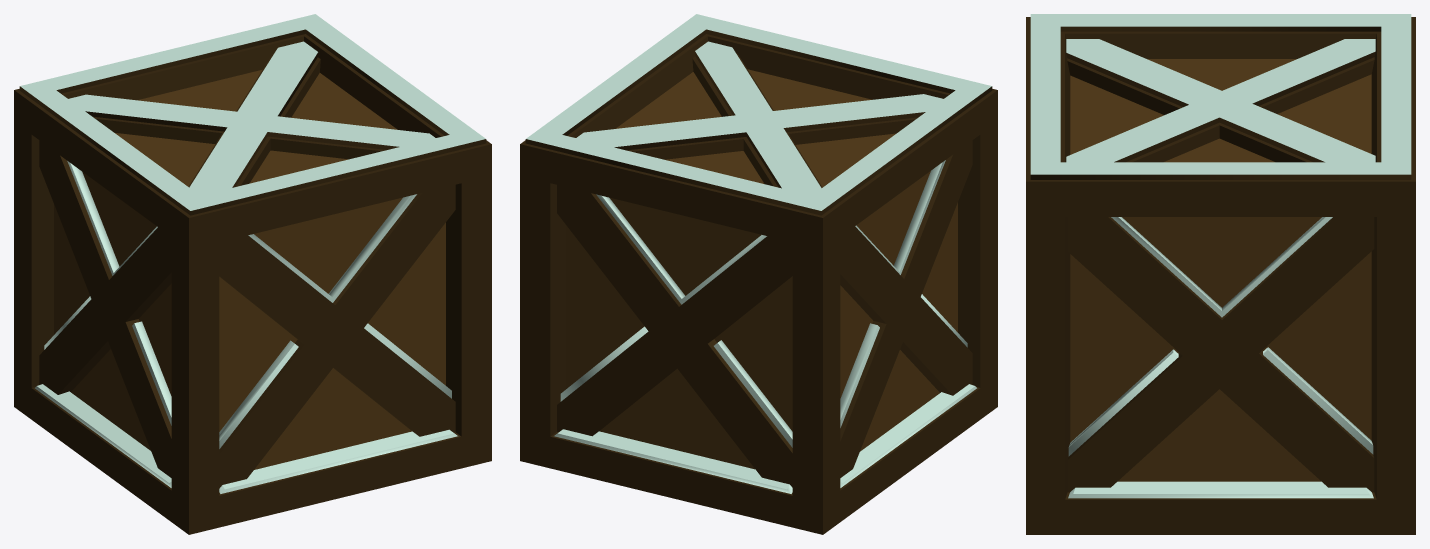
The model's file is winter-crate.glb.
3 views of the same model, side by side, from view 1: azimuth 30°, elevation 25°; view 2: azimuth 150°, elevation 25°; view 3: azimuth 270°, elevation 25° (orthographic). The views are drawn at different scales.
Parts seen in each view (by area): view 1: WinterCrate; view 2: WinterCrate; view 3: WinterCrate.
Boxes of the visible parts, x1,y1,x2,y2 form: WinterCrate: [14, 14, 491, 534]; WinterCrate: [520, 14, 997, 534]; WinterCrate: [1026, 14, 1415, 534].
Size of the model in its own units: 140 by 142 by 140.
Materials: 1 (1 with a texture image).
